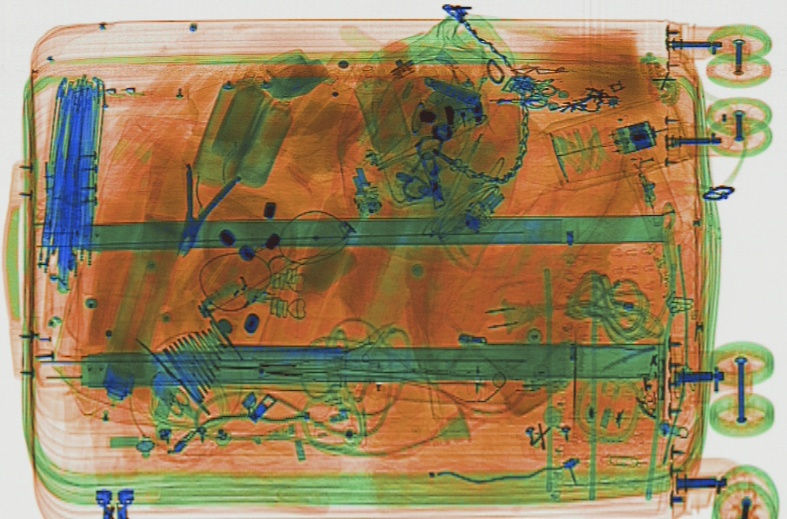glassbottle: (190, 72, 266, 188), (231, 97, 294, 189), (351, 70, 411, 155), (210, 73, 265, 158), (259, 47, 331, 100)
qianzi: (174, 140, 243, 259)
umbrella: (34, 71, 109, 320)
